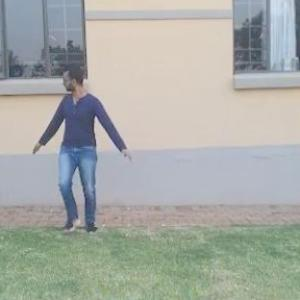land: (17, 60, 130, 245)
